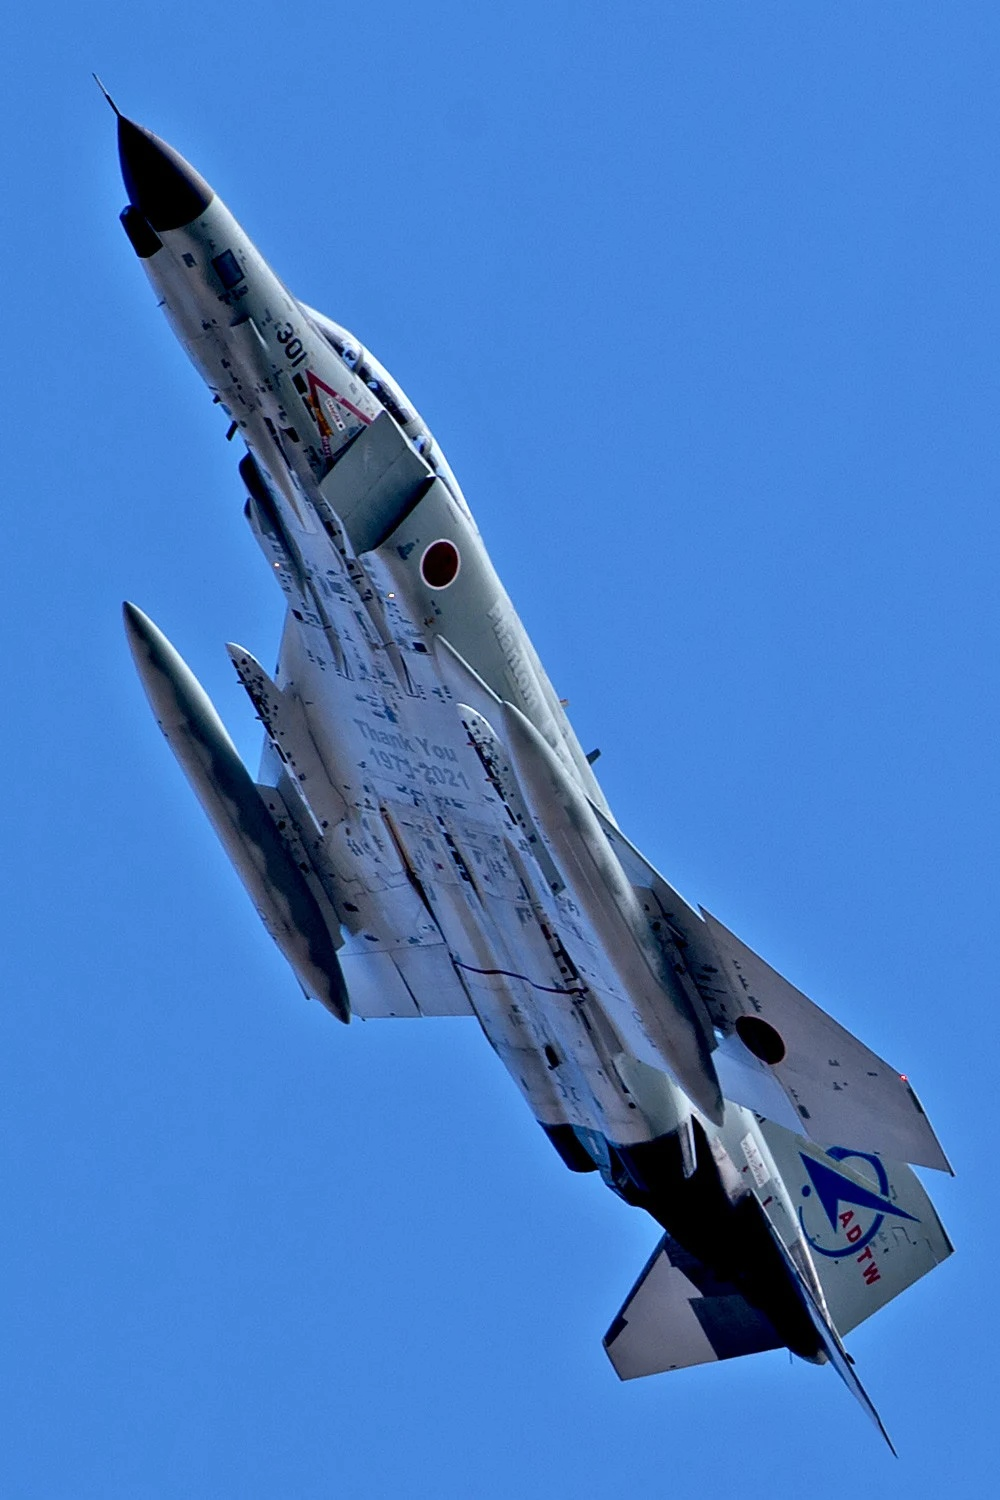F4: (92, 71, 956, 1460)
